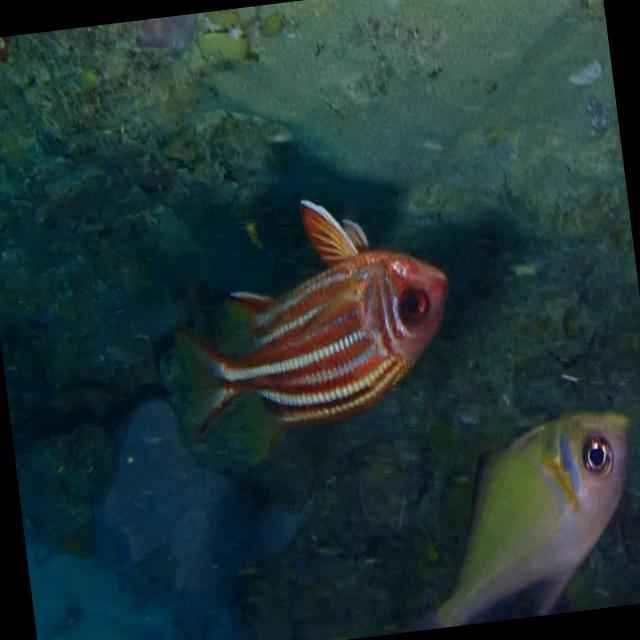Asker Baligi: (146, 170, 491, 462)
